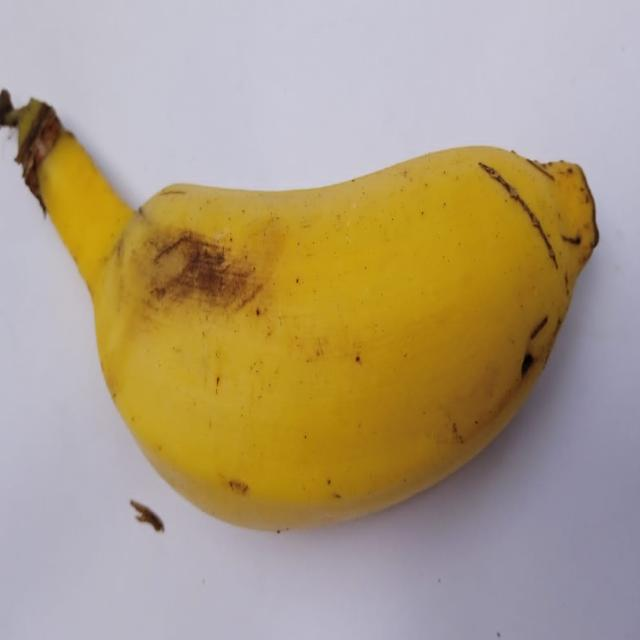banana: (0, 94, 597, 529)
